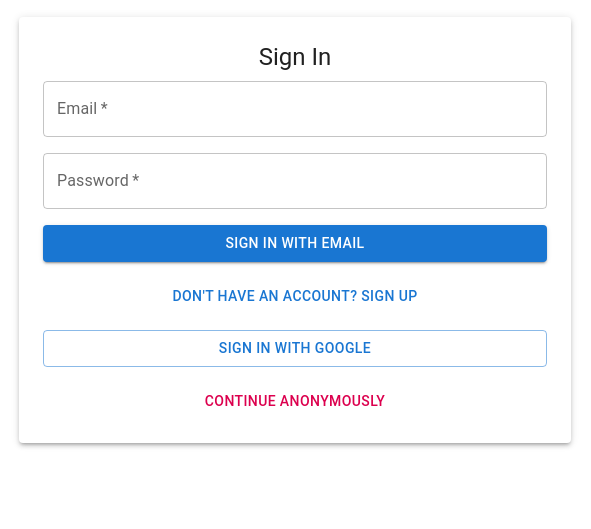
Test case: Login Component › displays error message on sign-in failure
Type "wrong@example.com" into the field labelled "Email *" at (295, 109), box [43,81,547,137]
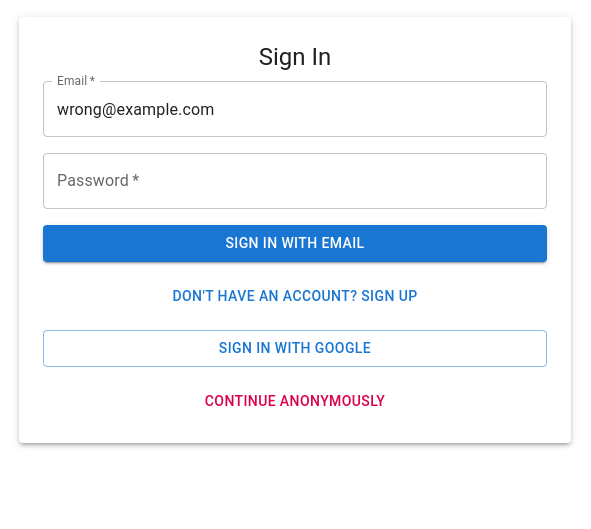
Type "wrongpassword" into the password field labelled "Password *" at (295, 181), box [43,153,547,209]
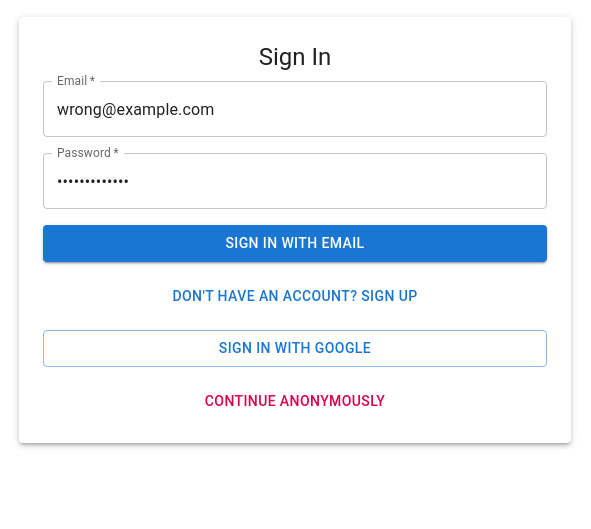
Click the button "Sign In with Email" at (295, 244), box [43,225,547,262]
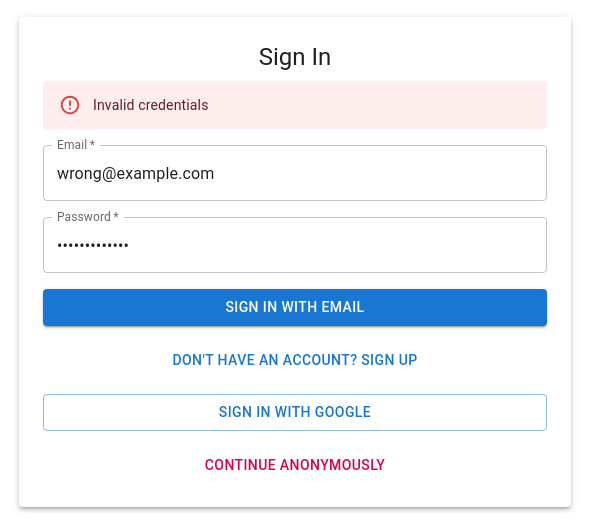
Check: the text "Invalid credentials" is shown, box [93,97,208,113]
